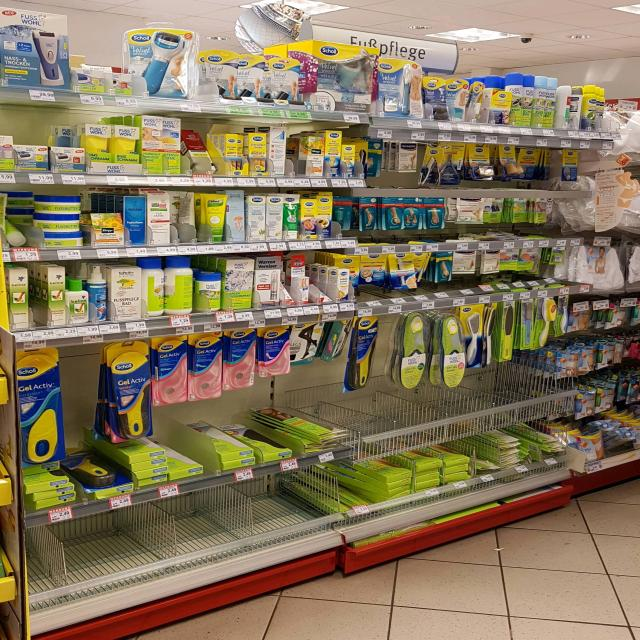void: (226, 480, 284, 595), (129, 502, 187, 609), (28, 509, 78, 621), (334, 445, 378, 547), (82, 505, 121, 618), (187, 499, 227, 605), (293, 470, 336, 564), (493, 374, 553, 416), (373, 396, 409, 447), (429, 406, 463, 445), (468, 389, 491, 438)
